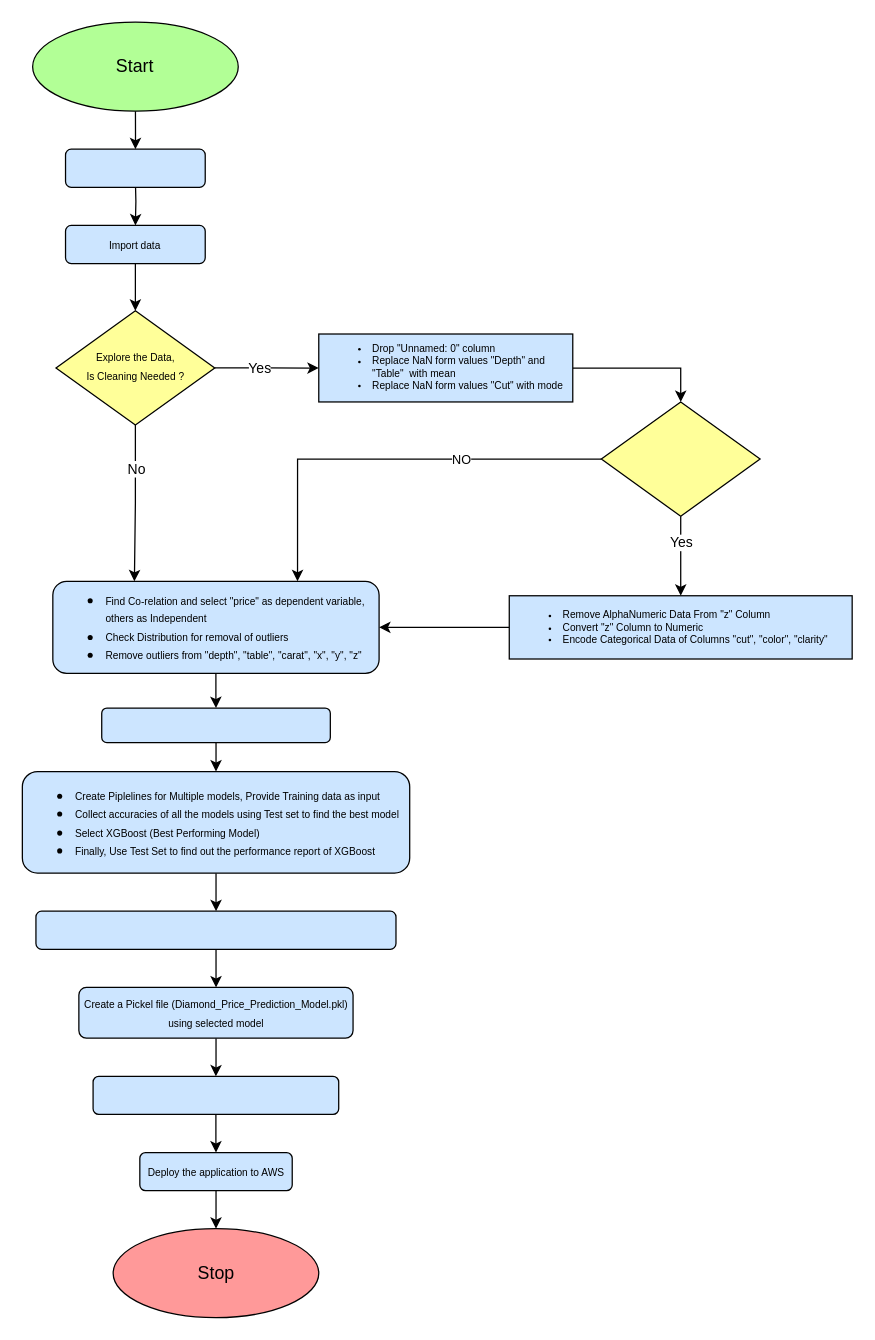
This 875x1340 diagram has some shape labels left out. Each missing label, with the centre of its shape:
"Build User Interface for front end using Flask" belongs at pixel 215 1094.
"Collect Diamond Price DataSet" belongs at pixel 134 167.
"Found Wrong Data Types?" belongs at pixel 680 458.
"Split Cleaned Data set into Training and Test set" belongs at pixel 215 725.
"Visualize Predicitons with the acutal data using dimentionality reduction" belongs at pixel 215 929.
